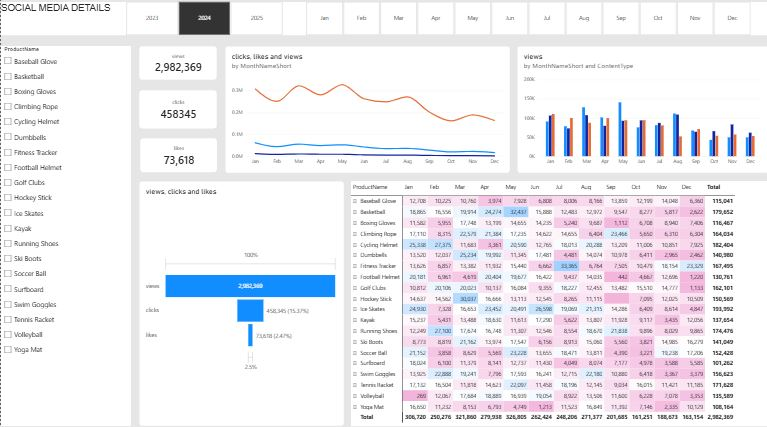

The page's visual inventory and layout, read from the dashboard file:
{"tool":"powerbi","page":{"name":"Social Media Details","canvas":[1920,1080],"ordinal":2},"visuals":[{"type":"textbox","box":[0,10,1920,83.3],"z":0},{"type":"slicer","fields":{"Values":["products.ProductName"]},"box":[0,120,325,950],"z":1000},{"type":"cardVisual","fields":{"Data":["Calculations.views"]},"box":[345,120,195,85],"z":2000},{"type":"cardVisual","fields":{"Data":["Calculations.clicks"]},"box":[345,230,195,97.5],"z":3000},{"type":"cardVisual","fields":{"Data":["Calculations.likes"]},"box":[347.5,350.8,193.3,86.7],"z":4000},{"type":"slicer","fields":{"Values":["Calendar.Year"]},"box":[293.3,6.7,430,86.7],"z":5000},{"type":"slicer","fields":{"Values":["Calendar.MonthNameShort"]},"box":[743.3,6.7,1150,86.7],"z":6000},{"type":"lineChart","fields":{"Category":["Calendar.MonthNameShort"],"Y":["Calculations.clicks","Calculations.likes","Calculations.views"]},"box":[560,120,712.5,317.5],"z":7000},{"type":"clusteredColumnChart","fields":{"Category":["Calendar.MonthNameShort"],"Series":["engagement_data.ContentType"],"Y":["Calculations.views"]},"box":[1290,120,630,317.5],"z":8000},{"type":"pivotTable","fields":{"Columns":["Calendar.MonthNameShort"],"Rows":["products.ProductName","engagement_data.ContentType"],"Values":["Calculations.views"]},"box":[875,457.5,1045,612.5],"z":9000},{"type":"funnel","fields":{"Y":["Calculations.views","Calculations.clicks","Calculations.likes"]},"box":[345,457.5,512.5,612.5],"z":10000}]}

Visuals, with their boxes in screenshot pixels (x1, y1, x2, y2), scaled from the page's 1920x1080 canvas onto the 767x427 screenshot:
textbox: [x1=0, y1=4, x2=766, y2=37]
slicer - products.ProductName: [x1=0, y1=47, x2=130, y2=423]
cardVisual - Calculations.views: [x1=138, y1=47, x2=216, y2=81]
cardVisual - Calculations.clicks: [x1=138, y1=91, x2=216, y2=129]
cardVisual - Calculations.likes: [x1=139, y1=139, x2=216, y2=173]
slicer - Calendar.Year: [x1=117, y1=3, x2=289, y2=37]
slicer - Calendar.MonthNameShort: [x1=297, y1=3, x2=756, y2=37]
lineChart - Calendar.MonthNameShort x Calculations.clicks: [x1=224, y1=47, x2=508, y2=173]
clusteredColumnChart - Calendar.MonthNameShort x engagement_data.ContentType: [x1=515, y1=47, x2=766, y2=173]
pivotTable - Calendar.MonthNameShort x products.ProductName: [x1=350, y1=181, x2=766, y2=423]
funnel - Calculations.views x Calculations.clicks: [x1=138, y1=181, x2=343, y2=423]
